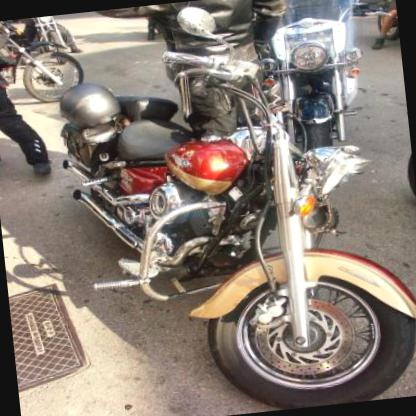motorcycle: (43, 12, 415, 415), (250, 0, 410, 159), (0, 12, 87, 108), (5, 13, 82, 72), (397, 83, 415, 218), (372, 0, 399, 44)
